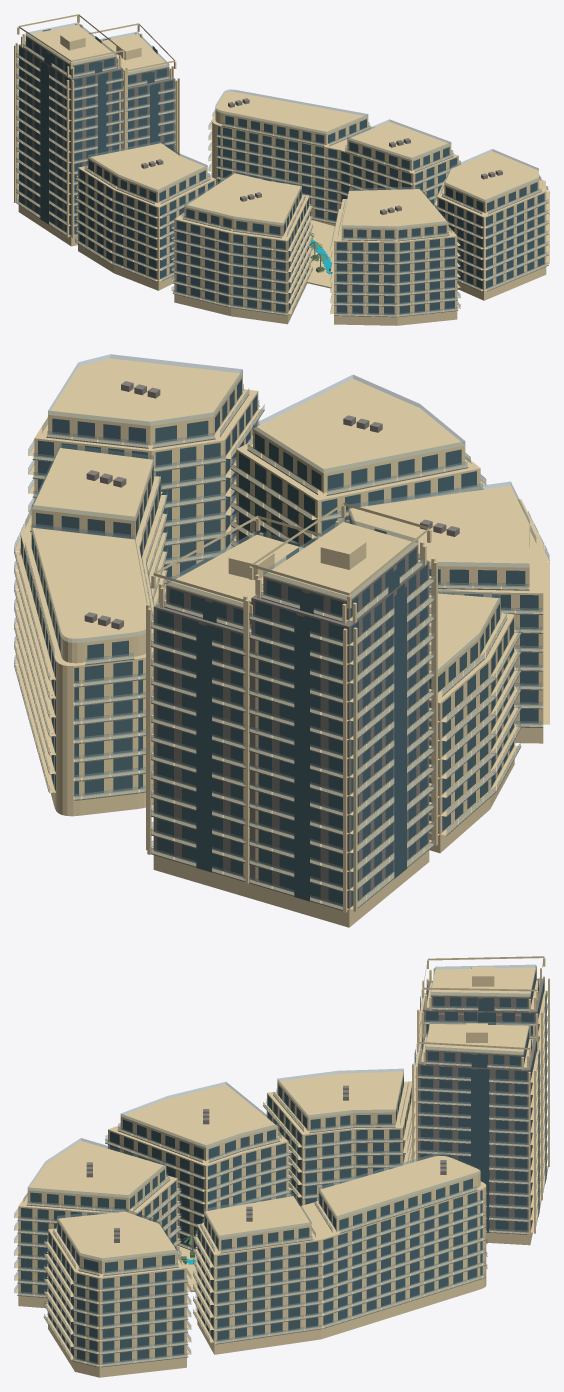
The model's file is pendergardens.glb.
3 views of the same model, one above another, from view 1: azimuth 30°, elevation 25°; view 2: azimuth 150°, elevation 25°; view 3: azimuth 270°, elevation 25° (orthographic). The views are drawn at different scales.
Visible parts, largest first — view 1: Turm 1 - 16 Etagen, Wohnblock 11 - 8 Etagen, Wohnblock 12 - 8 Etagen, Wohnblock 10 - 8 Etagen, Wohnblock 13 - 8 Etagen, Wohnblock 15 - verbreiterter Block bei Marker 35, Wohnblock 14 - 8 Etagen, Turm 2 - 14 Etagen, Piazza mit Wasserlauf und Palmen; view 2: Turm 1 - 16 Etagen, Turm 2 - 14 Etagen, Wohnblock 15 - verbreiterter Block bei Marker 35, Wohnblock 13 - 8 Etagen, Wohnblock 12 - 8 Etagen, Wohnblock 11 - 8 Etagen, Wohnblock 10 - 8 Etagen, Wohnblock 14 - 8 Etagen; view 3: Wohnblock 15 - verbreiterter Block bei Marker 35, Turm 2 - 14 Etagen, Wohnblock 13 - 8 Etagen, Wohnblock 14 - 8 Etagen, Wohnblock 11 - 8 Etagen, Wohnblock 10 - 8 Etagen, Wohnblock 12 - 8 Etagen, Turm 1 - 16 Etagen, Piazza mit Wasserlauf und Palmen.
Part boxes in pixels (box(x1,y1,x2,y2)): Turm 1 - 16 Etagen: box(14, 14, 127, 246); Wohnblock 11 - 8 Etagen: box(171, 171, 313, 324); Wohnblock 12 - 8 Etagen: box(330, 186, 460, 325); Wohnblock 10 - 8 Etagen: box(75, 141, 216, 290); Wohnblock 13 - 8 Etagen: box(434, 149, 549, 300); Wohnblock 15 - verbreiterter Block bei Marker 35: box(208, 89, 374, 226); Wohnblock 14 - 8 Etagen: box(337, 119, 460, 213); Turm 2 - 14 Etagen: box(88, 23, 179, 155); Piazza mit Wasserlauf und Palmen: box(307, 220, 334, 288); Turm 1 - 16 Etagen: box(243, 502, 437, 927); Turm 2 - 14 Etagen: box(146, 515, 323, 898); Wohnblock 15 - verbreiterter Block bei Marker 35: box(14, 523, 154, 816); Wohnblock 13 - 8 Etagen: box(28, 354, 264, 598); Wohnblock 12 - 8 Etagen: box(231, 375, 486, 547); Wohnblock 11 - 8 Etagen: box(335, 481, 549, 743); Wohnblock 10 - 8 Etagen: box(429, 588, 521, 853); Wohnblock 14 - 8 Etagen: box(14, 443, 167, 667); Wohnblock 15 - verbreiterter Block bei Marker 35: box(300, 1153, 487, 1339); Turm 2 - 14 Etagen: box(412, 1012, 541, 1245); Wohnblock 13 - 8 Etagen: box(43, 1209, 191, 1377); Wohnblock 14 - 8 Etagen: box(193, 1193, 325, 1354); Wohnblock 11 - 8 Etagen: box(105, 1082, 292, 1250); Wohnblock 10 - 8 Etagen: box(263, 1068, 414, 1206); Wohnblock 12 - 8 Etagen: box(14, 1138, 181, 1308); Turm 1 - 16 Etagen: box(417, 956, 549, 1200); Piazza mit Wasserlauf und Palmen: box(177, 1234, 197, 1292).
Size of the model in its own units: 108 by 55.4 by 120.
